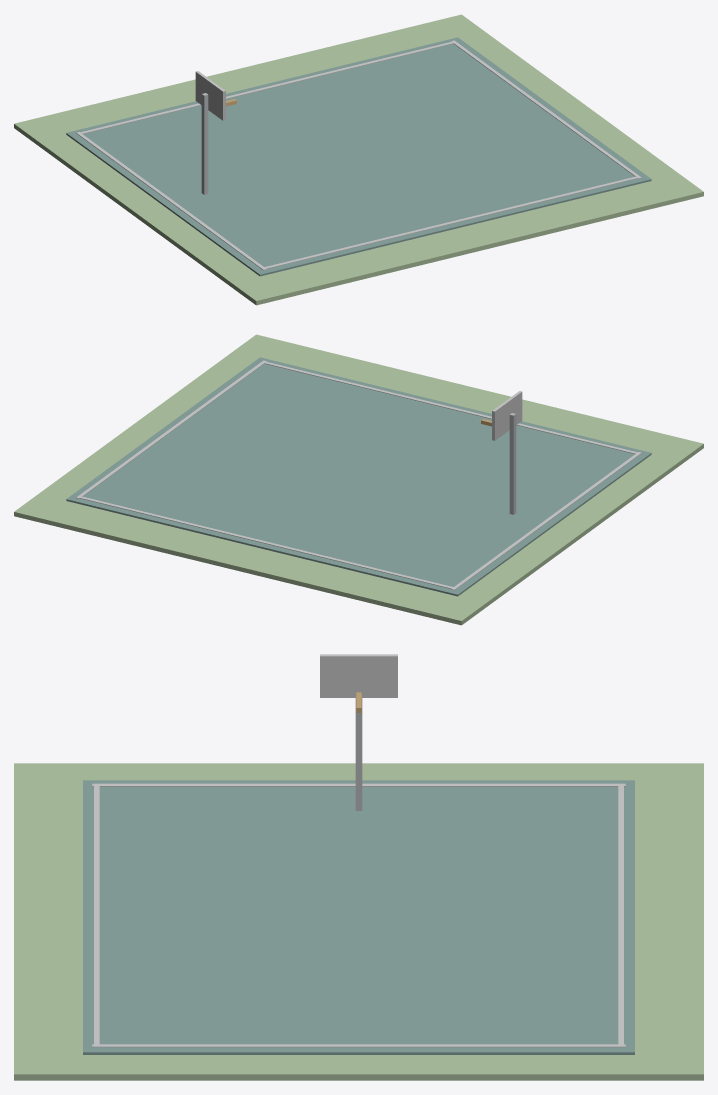
File: 16_parks_greenery-05.glb
The picture shows the model from 3 angles, top to bottom: view 1: azimuth 30°, elevation 25°; view 2: azimuth 150°, elevation 25°; view 3: azimuth 270°, elevation 25°; orthographic projection. The views are drawn at different scales.
Bounding box in the file's own units: 16 × 4 × 15.
